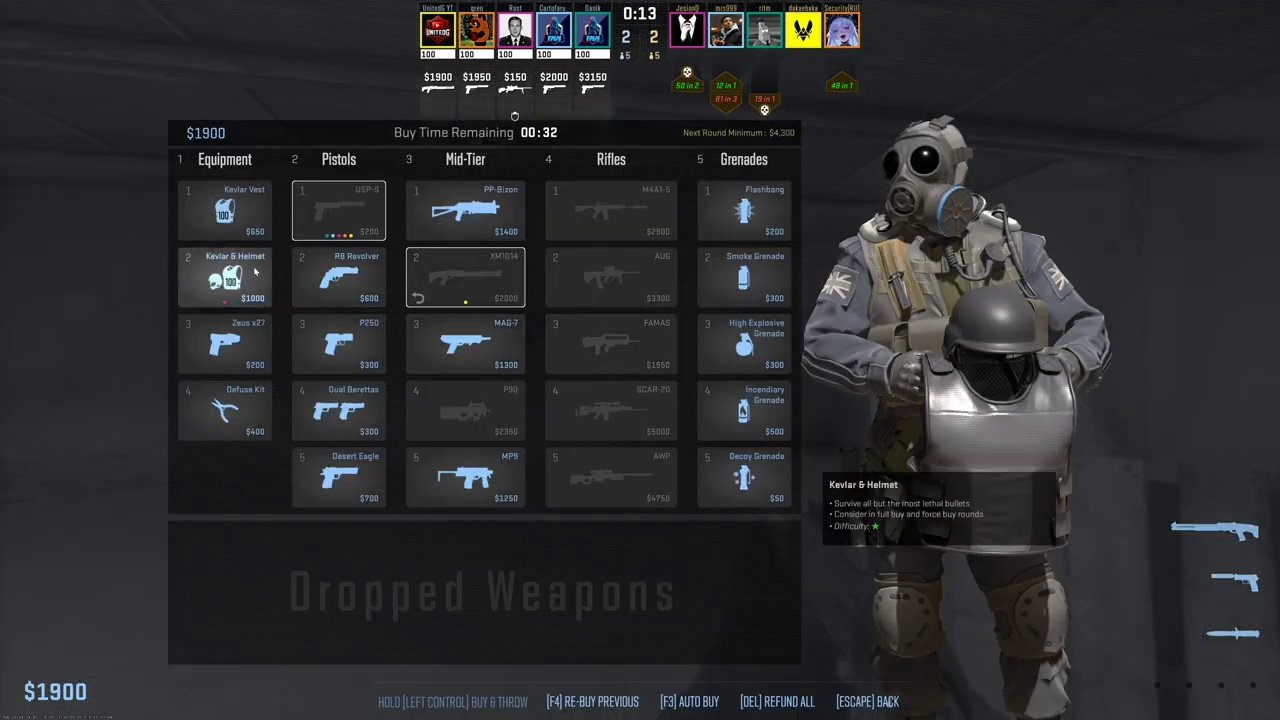CT: (854, 121, 1078, 720)
